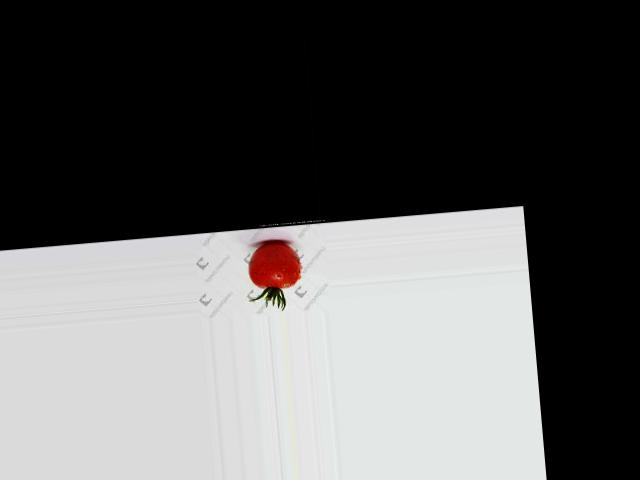tomato: (245, 239, 300, 290)
